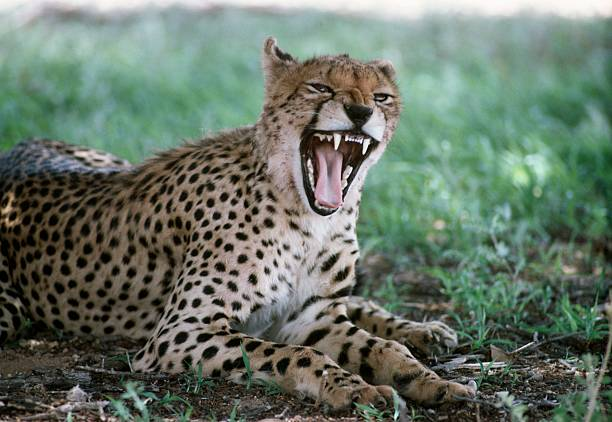cheetah: (248, 18, 419, 238)
